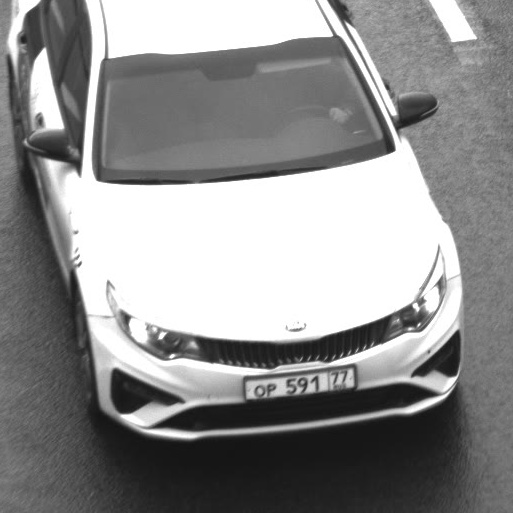plate: (232, 356, 365, 407)
